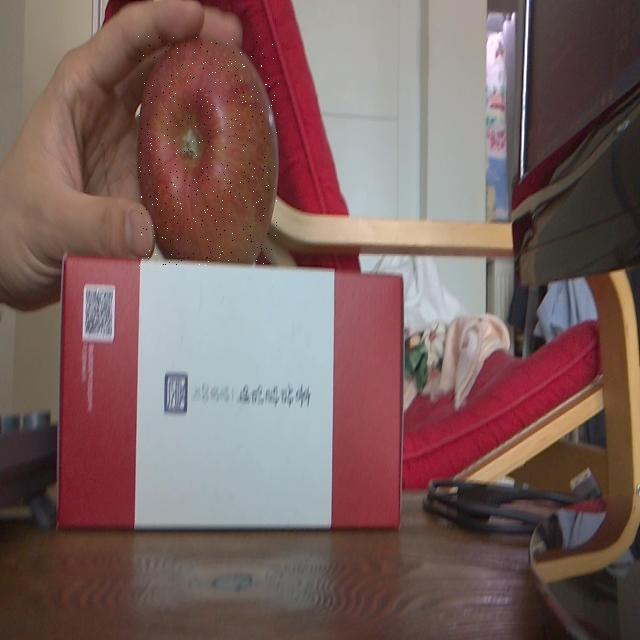apple: (138, 36, 279, 266)
